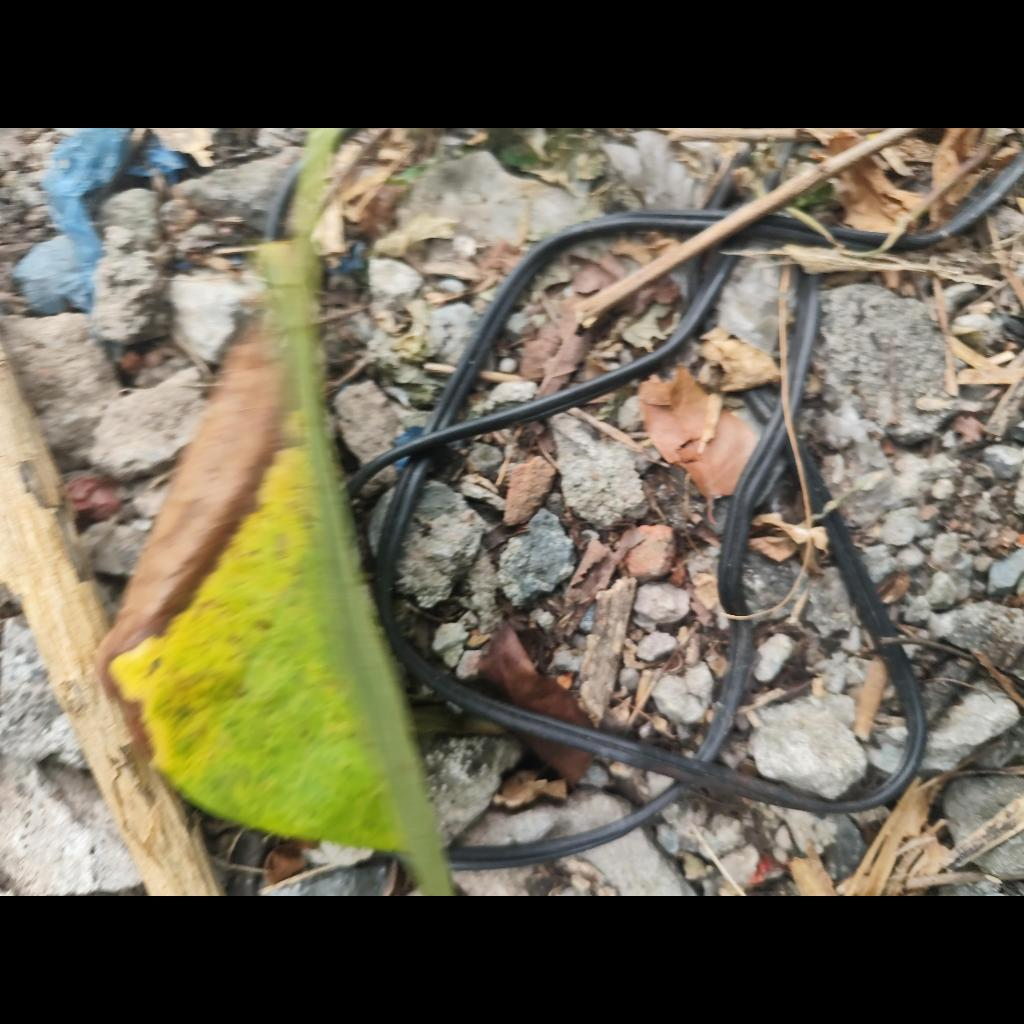deficiencia_nutricional: (96, 243, 451, 896)
